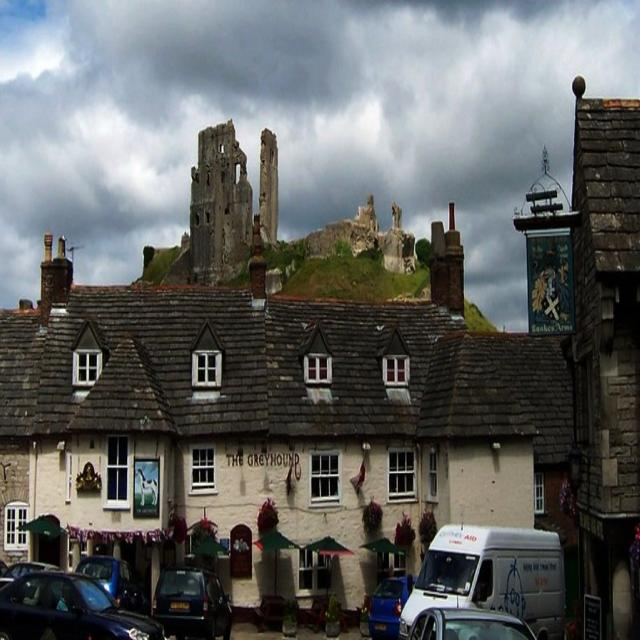other: (0, 565, 166, 639), (149, 563, 233, 638), (408, 604, 550, 638), (73, 552, 143, 612), (0, 555, 71, 609), (368, 571, 418, 638)
